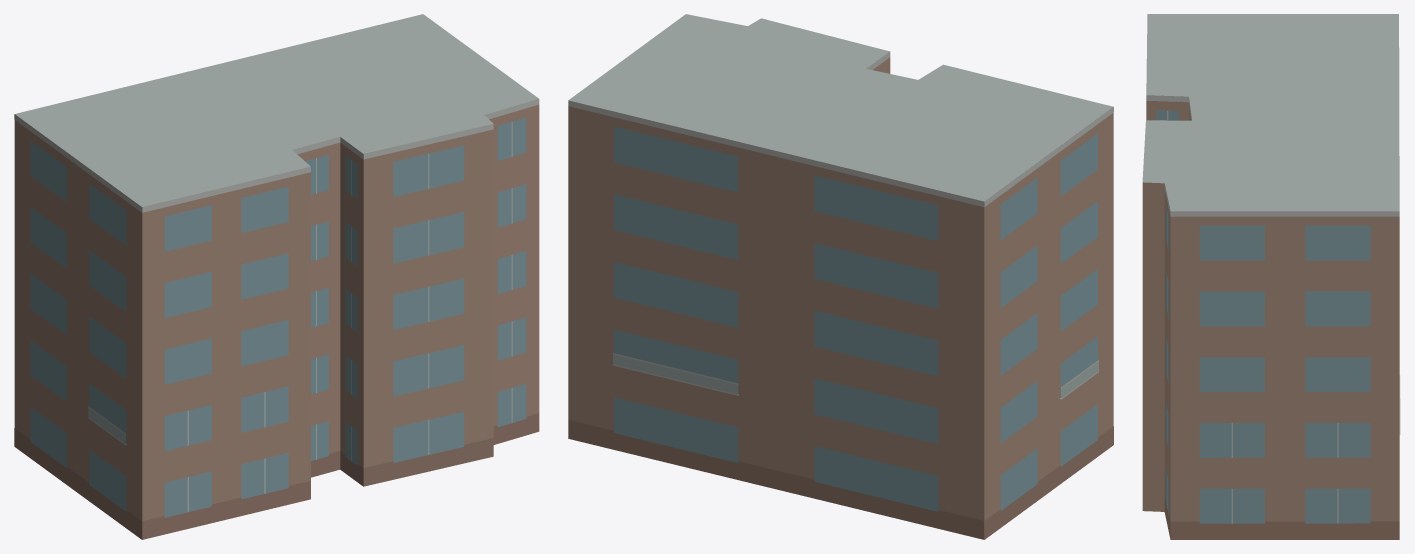
The model's file is survey-upis-32815093.glb.
3 views of the same model, side by side, from view 1: azimuth 30°, elevation 25°; view 2: azimuth 150°, elevation 25°; view 3: azimuth 270°, elevation 25° (orthographic). The views are drawn at different scales.
Visible parts, largest first — view 1: survey-upis-32815093.tmp; view 2: survey-upis-32815093.tmp; view 3: survey-upis-32815093.tmp.
Boxes of the visible parts, left/top/right/bottom form: survey-upis-32815093.tmp: left=14, top=14, right=539, bottom=539; survey-upis-32815093.tmp: left=568, top=14, right=1113, bottom=539; survey-upis-32815093.tmp: left=1142, top=14, right=1400, bottom=539.
Bounding box in the file's own units: 18.57 × 14.4 × 10.25.
